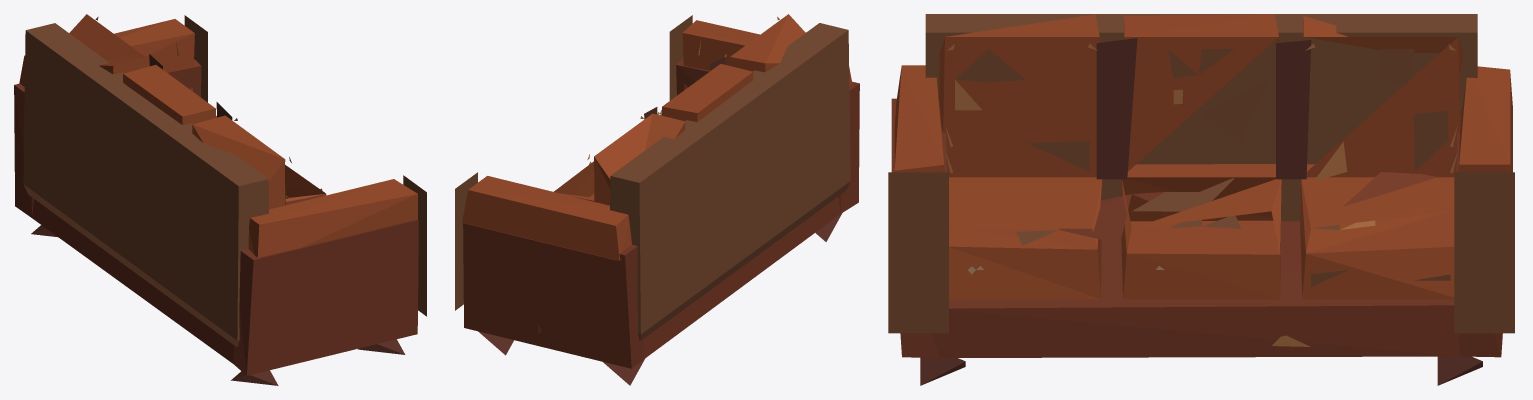
3 renders of one model, left to right at view 1: azimuth 30°, elevation 25°; view 2: azimuth 150°, elevation 25°; view 3: azimuth 270°, elevation 25°, orthographic. The views are drawn at different scales.
Visible parts, largest first — view 1: object 2, body; view 2: object 2, body; view 3: body, object 2.
Boxes of the visible parts, <box> form: object 2: <box>14,15,426,385</box>; body: <box>19,14,417,257</box>; object 2: <box>455,15,859,385</box>; body: <box>462,14,852,260</box>; body: <box>894,14,1512,299</box>; object 2: <box>888,14,1514,385</box>.
Bounding box in the file's own units: 1.02 × 1.21 × 2.46.
